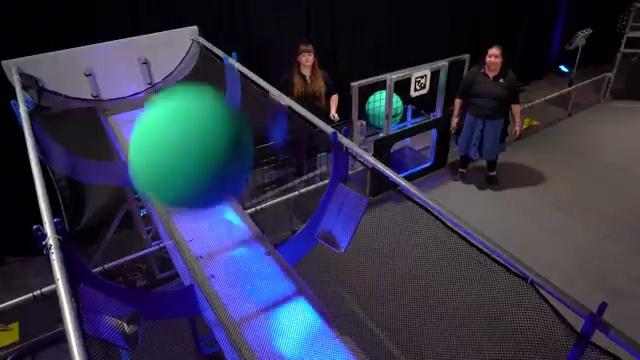ALGAE: (126, 80, 254, 209), (364, 89, 403, 128)
